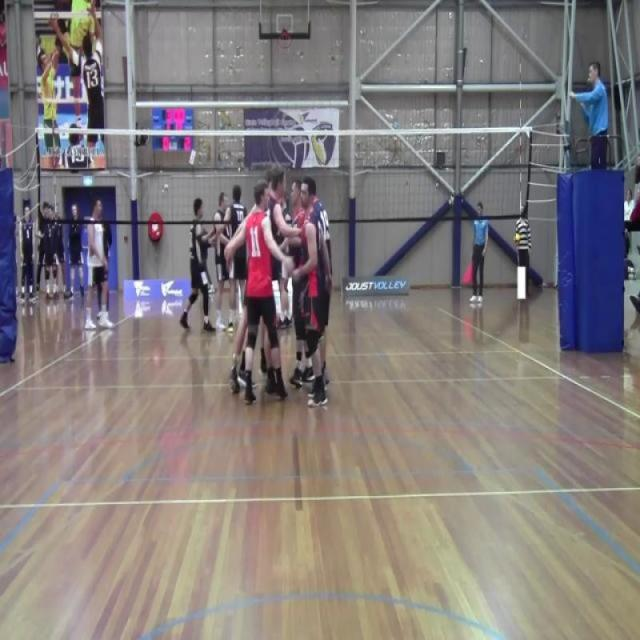volleyball: (512, 231, 522, 247)
